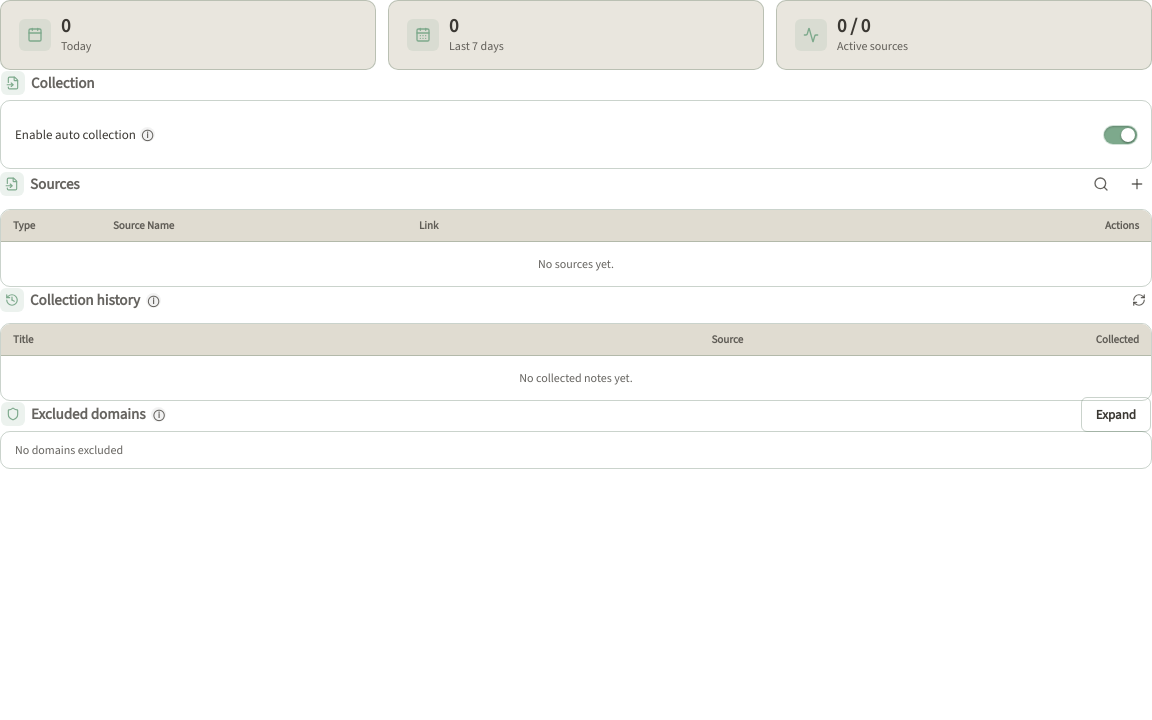
CollectSection › local source detection (W8, PLAN-2026-09-04-local-import) › shows the open-tabs hint in the dry-run modal for a browser_history candidate
This screenshot has width=1152, height=720.
Click the button with test id "collect-detect-btn": [1101, 184] box x1=1086 y1=169 x2=1116 y2=199
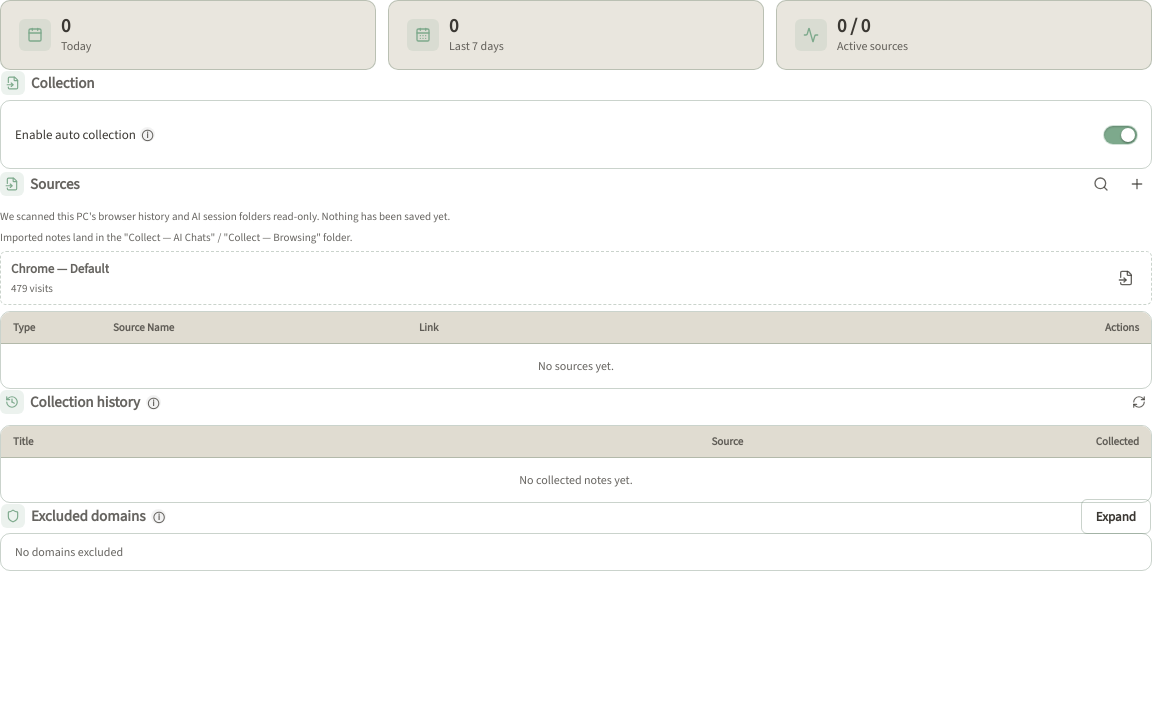
Expected: the element with test id "collect-ghost-chrome:Default" is shown, x1=0 y1=251 x2=1151 y2=305
Click the button with test id "collect-ghost-import-chrome:Default": [1126, 278] box x1=1111 y1=263 x2=1141 y2=293
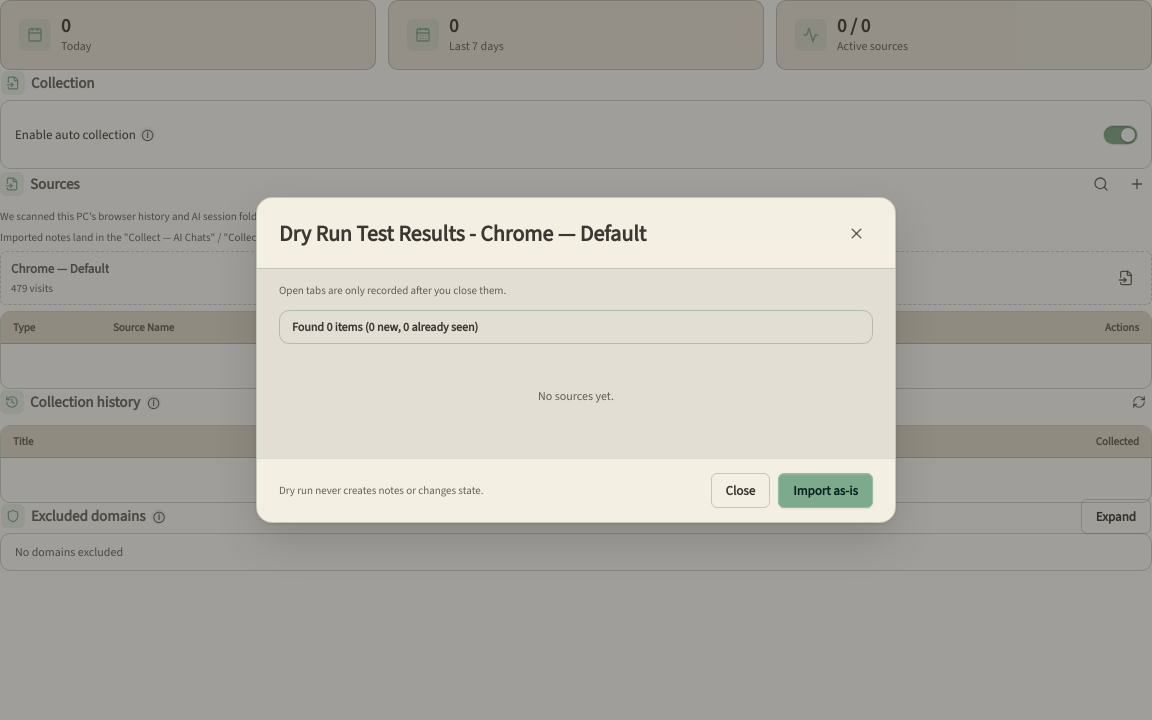
Expected: the text "Open tabs are only recorded after you close them." is shown, x1=279 y1=283 x2=506 y2=298
